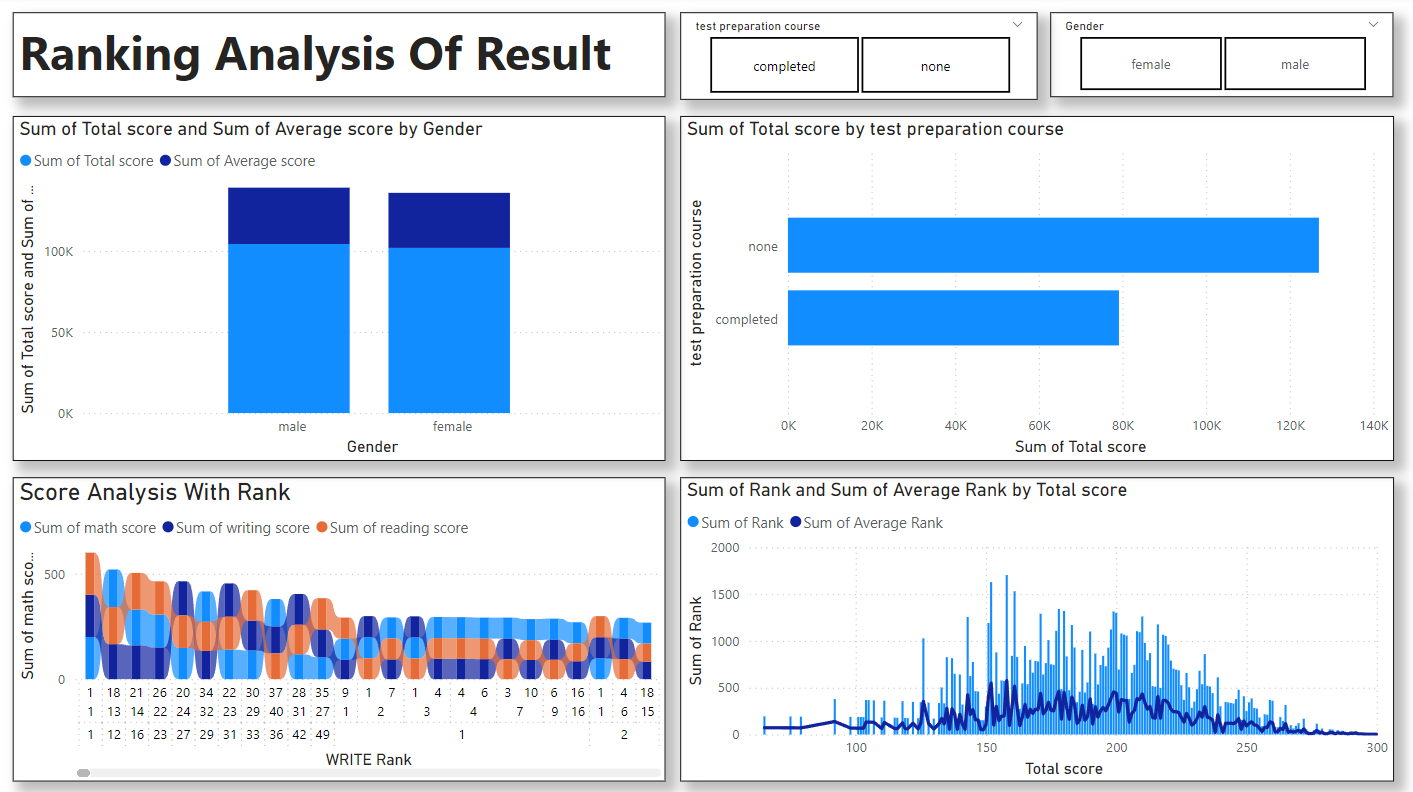

The dashboard page shown, as its layout file describes it:
{"tool":"powerbi","page":{"name":"Page 3","canvas":[1280,720],"ordinal":1},"visuals":[{"type":"ribbonChart","title":"Score Analysis With Rank","fields":{"Category":["exams (2) (1).MATH Rank","exams (2) (1).READ Rank","exams (2) (1).WRITE Rank"],"Y":["Sum(exams (2) (1).math score)","Sum(exams (2) (1).writing score)","Sum(exams (2) (1).reading score)"]},"box":[12.8,434.9,590.7,275.6],"z":0},{"type":"lineStackedColumnComboChart","fields":{"Category":["exams (2) (1).Total score"],"Y":["Sum(exams (2) (1).Rank)"],"Y2":["Sum(exams (2) (1).Average Rank)"]},"box":[616.3,434.9,645.4,275.6],"z":1000},{"type":"barChart","fields":{"Category":["exams (2) (1).test preparation course"],"Y":["Sum(exams (2) (1).Total score)"]},"box":[616.3,108.1,645.4,311.6],"z":3000},{"type":"slicer","fields":{"Values":["exams (2) (1).Gender"]},"box":[951.2,15.1,310.5,76.7],"z":4000},{"type":"textbox","box":[12.8,15.1,590.7,76.7],"z":5000},{"type":"slicer","fields":{"Values":["exams (2) (1).test preparation course"]},"box":[616.3,15.1,323.3,79.1],"z":6000},{"type":"columnChart","fields":{"Y":["Sum(exams (2) (1).Total score)","Sum(exams (2) (1).Average score)"],"Category":["exams (2) (1).Gender"]},"box":[12.8,108.1,590.7,311.6],"z":7000}]}

Visuals, with their boxes in screenshot pixels (x1, y1, x2, y2), scaled from the page's 1280x720 canvas onto the 1413x792 screenshot:
"Score Analysis With Rank" ribbonChart: [left=14, top=478, right=666, bottom=782]
lineStackedColumnComboChart - exams (2) (1).Total score x Sum(exams (2) (1).Rank): [left=680, top=478, right=1393, bottom=782]
barChart - exams (2) (1).test preparation course x Sum(exams (2) (1).Total score): [left=680, top=119, right=1393, bottom=462]
slicer - exams (2) (1).Gender: [left=1050, top=17, right=1393, bottom=101]
textbox: [left=14, top=17, right=666, bottom=101]
slicer - exams (2) (1).test preparation course: [left=680, top=17, right=1037, bottom=104]
columnChart - Sum(exams (2) (1).Total score) x Sum(exams (2) (1).Average score): [left=14, top=119, right=666, bottom=462]
